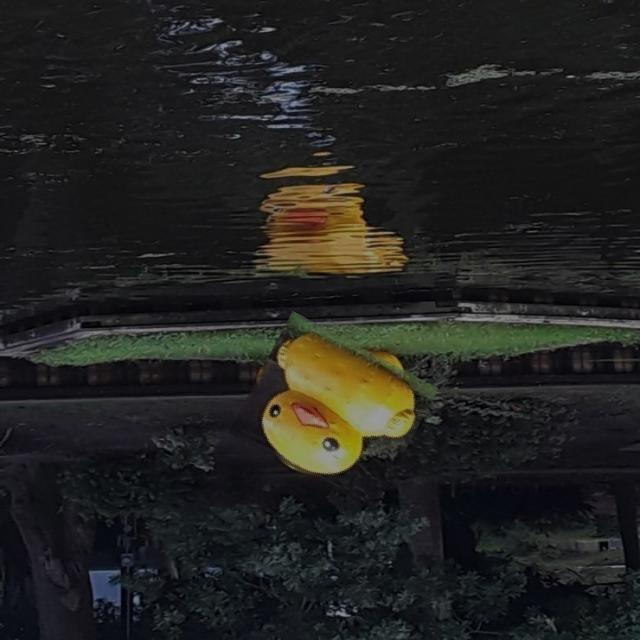rubber-duck: (235, 333, 414, 473)
